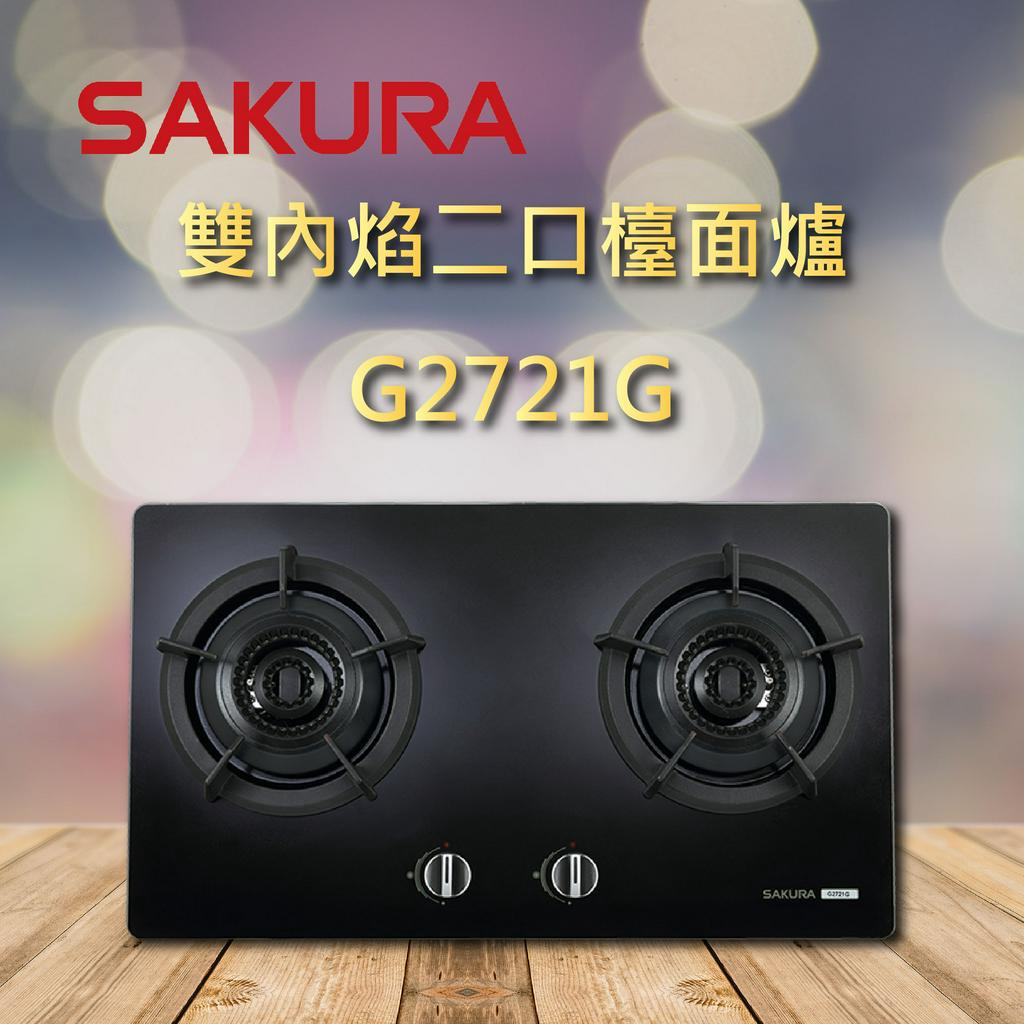gasoven: (121, 493, 909, 959)
